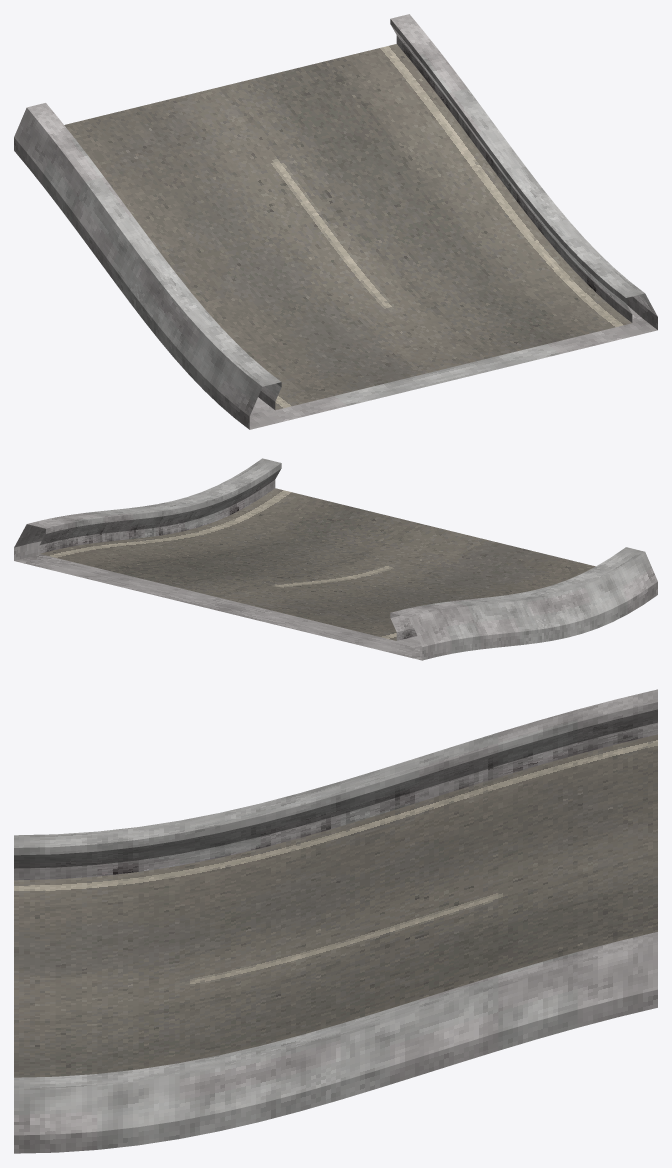
The model's file is straight1.glb.
3 renders of one model, top to bottom at view 1: azimuth 30°, elevation 25°; view 2: azimuth 150°, elevation 25°; view 3: azimuth 270°, elevation 25°, orthographic. The views are drawn at different scales.
Parts seen in each view (by area): view 1: road-Straight-Flat-BiSlopeUp-Up1-Center-Size1; view 2: road-Straight-Flat-BiSlopeUp-Up1-Center-Size1; view 3: road-Straight-Flat-BiSlopeUp-Up1-Center-Size1.
Boxes of the visible parts, x1=… form: road-Straight-Flat-BiSlopeUp-Up1-Center-Size1: x1=14, y1=14, x2=657, y2=429; road-Straight-Flat-BiSlopeUp-Up1-Center-Size1: x1=14, y1=458, x2=657, y2=660; road-Straight-Flat-BiSlopeUp-Up1-Center-Size1: x1=14, y1=689, x2=657, y2=1153.
Size of the model in its own units: 1 by 0.3438 by 1.
Materials: 2 (2 with a texture image).
